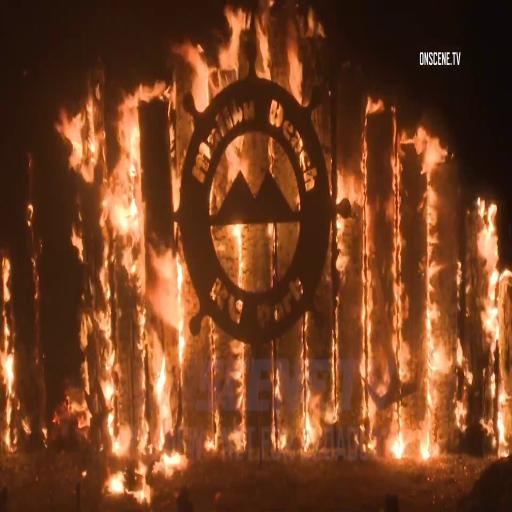fire: (369, 124, 512, 444), (66, 50, 182, 423)
